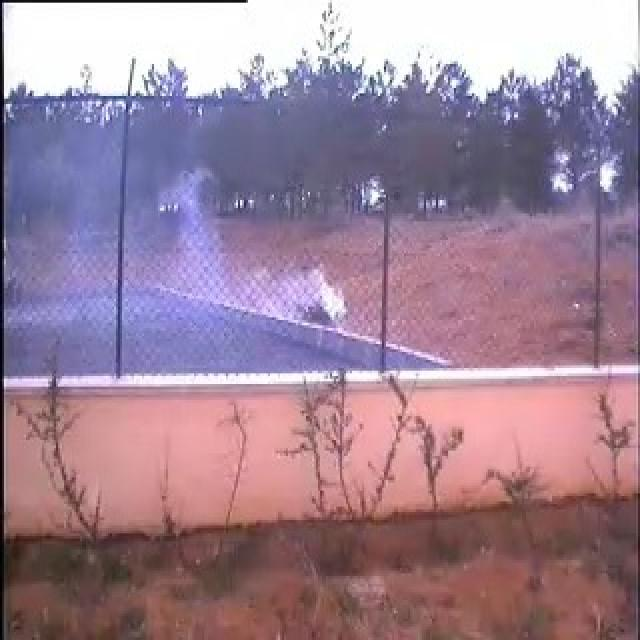smoke: (125, 158, 345, 364)
